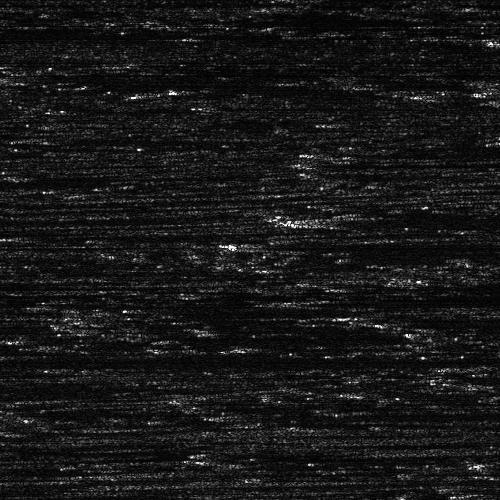object: (412, 0, 500, 7)
shadow: (0, 30, 280, 39), (458, 0, 500, 7)
